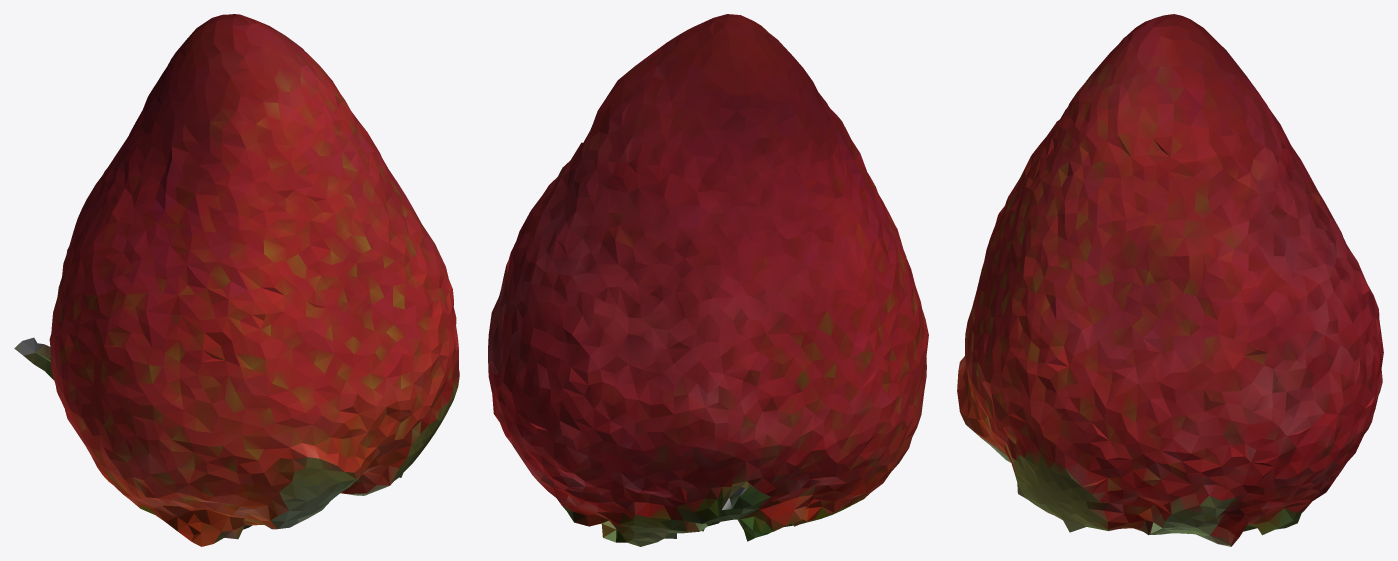
The picture shows the model from 3 angles, left to right: view 1: azimuth 30°, elevation 25°; view 2: azimuth 150°, elevation 25°; view 3: azimuth 270°, elevation 25°; orthographic projection. The views are drawn at different scales.
Visible parts, largest first — view 1: strawberry_08_visual; view 2: strawberry_08_visual; view 3: strawberry_08_visual.
Boxes of the visible parts, x1,y1,x2,y2 form: strawberry_08_visual: (14,14,459,546); strawberry_08_visual: (488,14,928,546); strawberry_08_visual: (957,14,1383,546).
Bounding box in the file's own units: 0.8513 × 0.8664 × 1.09.
